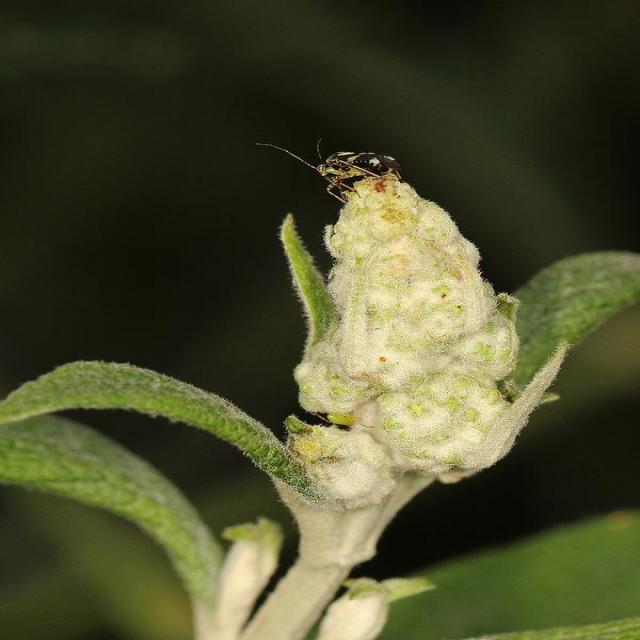Miridae-Adult-: (251, 130, 408, 198)
